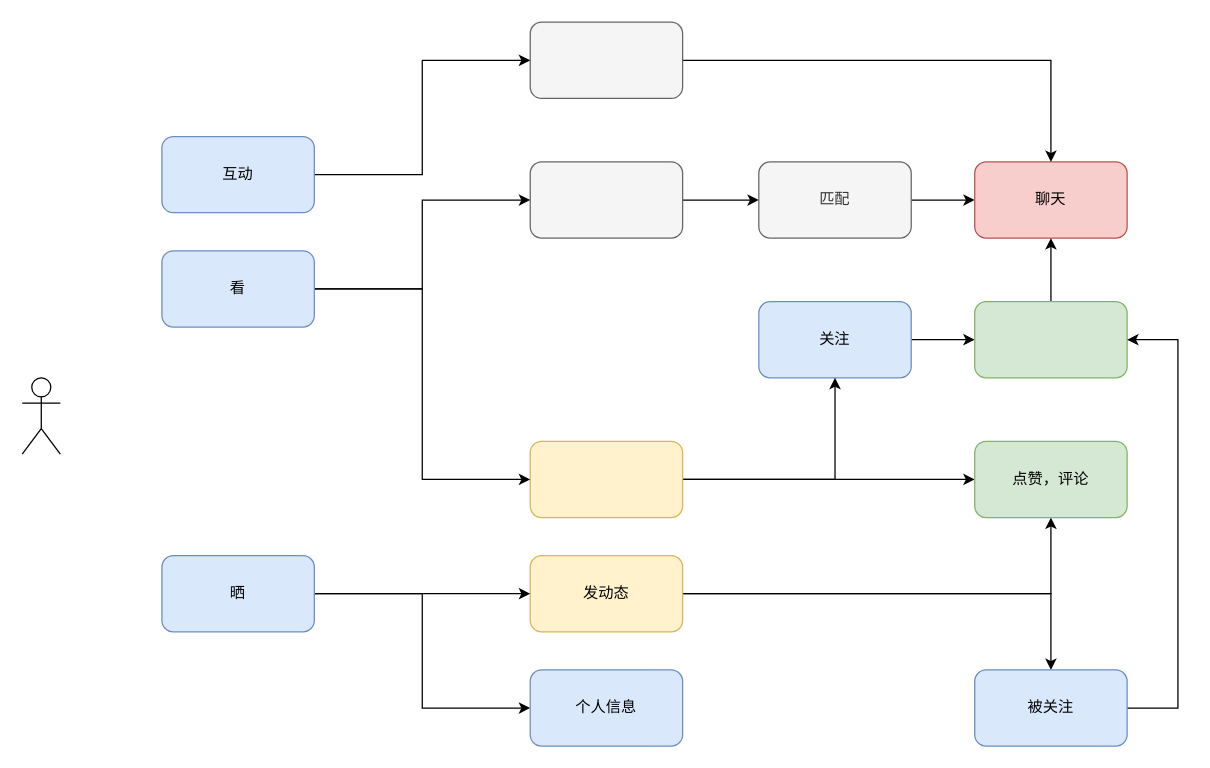
This 1210x768 diagram has some shape labels left out. Here are the shapes that lost their labels. From the top down, the centre of each, then its label:
At (x=606, y=59): "闪聊".
At (x=606, y=199): "划卡".
At (x=1050, y=339): "互关".
At (x=40, y=415): "用户".
At (x=606, y=479): "看动态".
